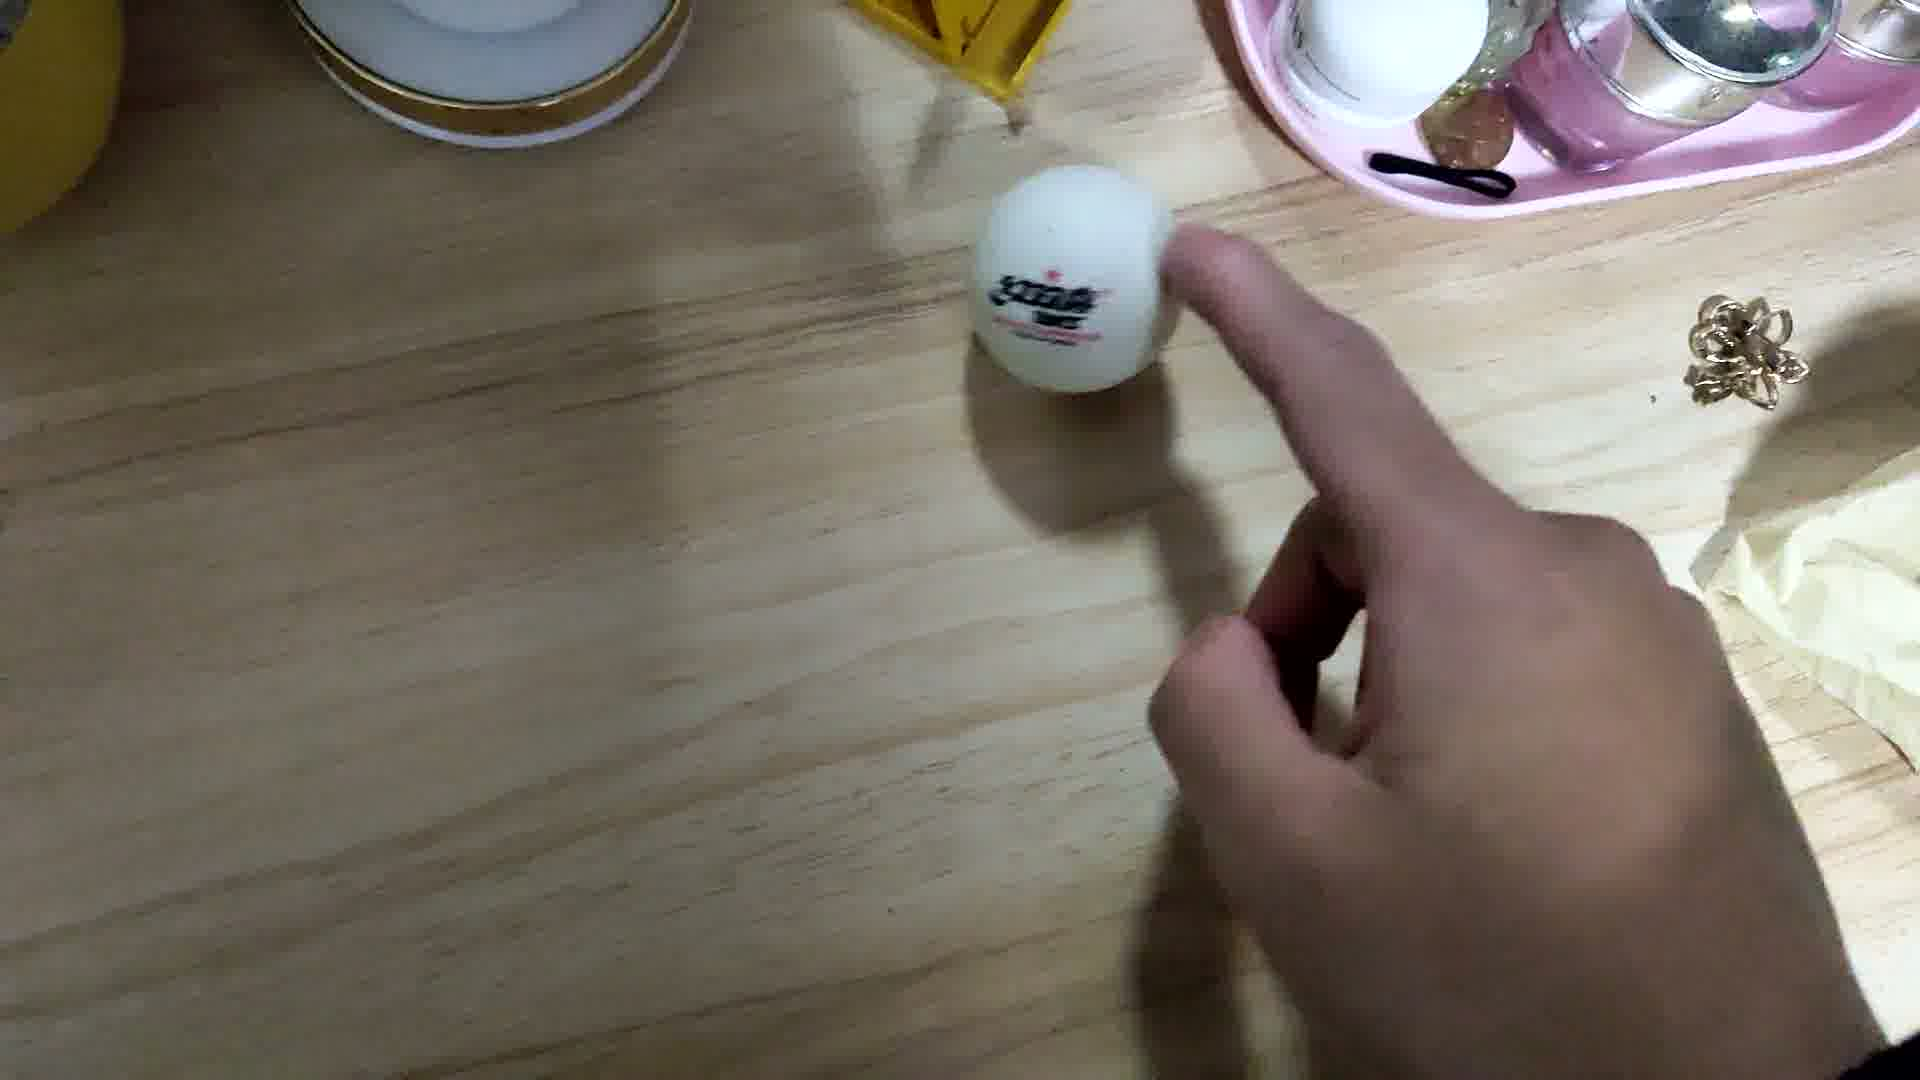Ball: (975, 164, 1191, 400)
